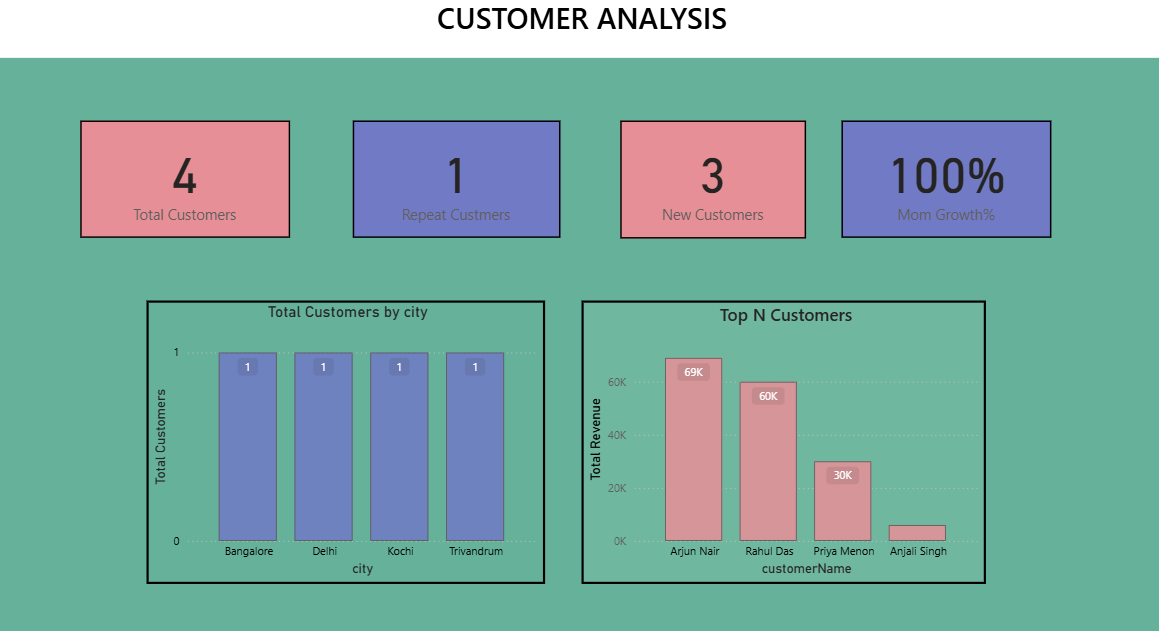

The page's visual inventory and layout, read from the dashboard file:
{"tool":"powerbi","page":{"name":"Page 2","canvas":[1280,720],"ordinal":1},"visuals":[{"type":"card","fields":{"Values":["Measure.Total Customers"]},"box":[89.2,140,230.5,129],"z":0},{"type":"card","fields":{"Values":["Measure.Repeat Custmers"]},"box":[388.3,140,227.8,129],"z":1000},{"type":"card","fields":{"Values":["Measure.New Customers"]},"box":[682.6,139.6,204.3,129.4],"z":2000},{"type":"card","fields":{"Values":["Measure.Mom Growth%"]},"box":[924.9,140,230.5,129],"z":3000},{"type":"columnChart","fields":{"Category":["ecommerce_db customers.city"],"Y":["Measure.Total Customers"]},"box":[161.7,337,437.4,311.5],"z":6000},{"type":"columnChart","title":"Top N Customers","fields":{"Category":["ecommerce_db customers.customerName"],"Y":["Measure.Total Revenue"]},"box":[640,337,444.3,311.5],"z":7000},{"type":"textbox","box":[0,0,1280.3,71.4],"z":8000}]}

Visuals, with their boxes in screenshot pixels (x1, y1, x2, y2):
card - Measure.Total Customers: [86,119,292,235]
card - Measure.Repeat Custmers: [354,119,558,235]
card - Measure.New Customers: [617,119,800,235]
card - Measure.Mom Growth%: [835,119,1041,235]
columnChart - ecommerce_db customers.city x Measure.Total Customers: [151,296,543,575]
"Top N Customers" columnChart: [579,296,977,575]
textbox: [6,0,1153,58]
